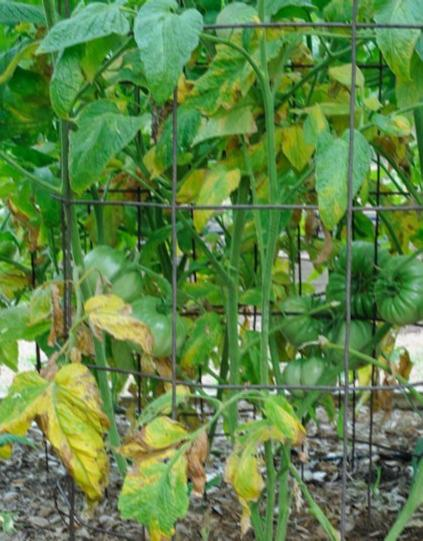Tomato Early blight leaf: (221, 397, 320, 528), (119, 418, 209, 541), (42, 360, 110, 495), (88, 290, 160, 368), (193, 168, 243, 232), (279, 120, 315, 171)
Tomato leaf: (136, 0, 202, 111), (68, 95, 137, 190), (39, 1, 129, 47)
